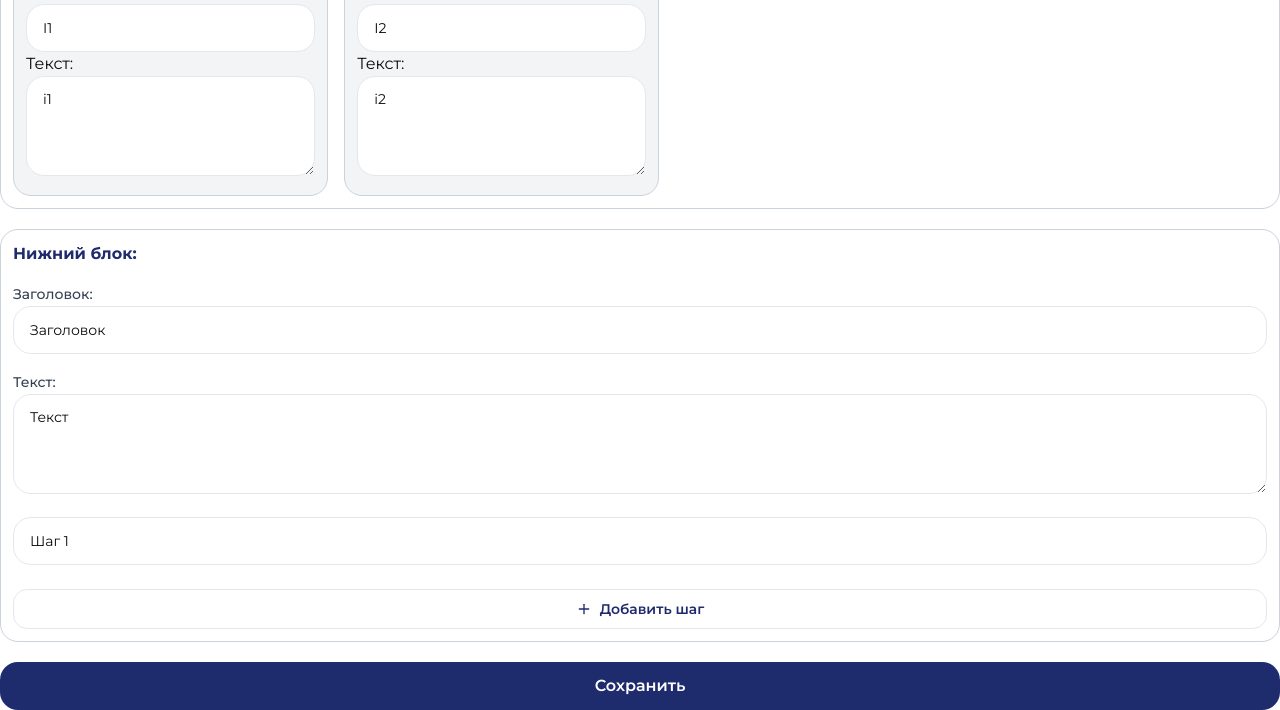
AboutUsForm › требует обязательные поля
(page scrolled)
Click the button "Сохранить". click: (640, 686)
box: left=0, top=662, right=1279, bottom=709
(page scrolled)
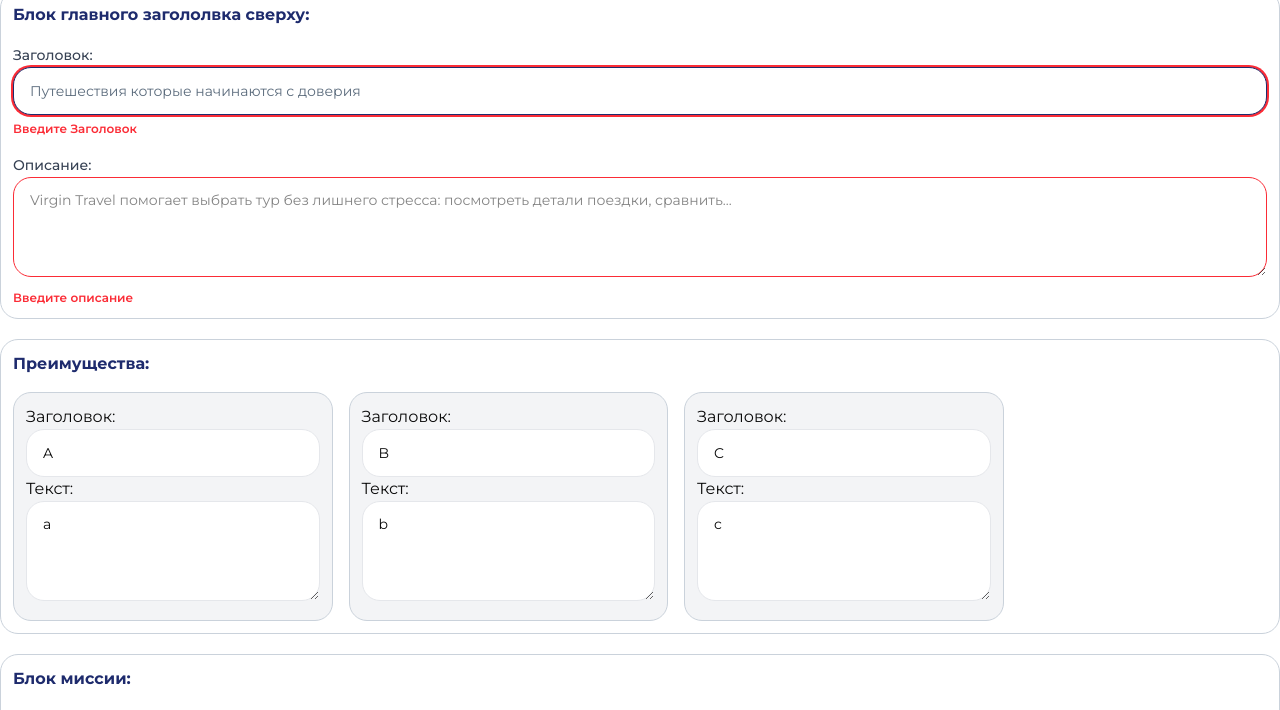
Expected: the text "Введите Заголовок" is shown, left=13, top=121, right=137, bottom=136
Expected: the text "Введите описание" is shown, left=13, top=290, right=133, bottom=305
